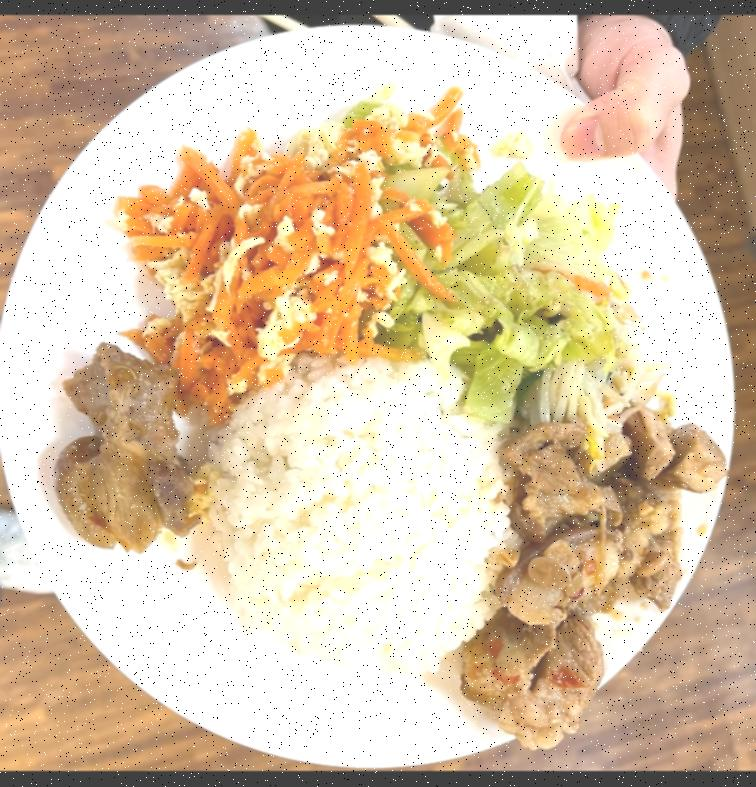big fried chicken leg: (0, 16, 756, 766)
big herbal chicken leg: (206, 363, 523, 672)
braised fish fillet: (115, 138, 403, 402), (399, 160, 651, 378), (527, 356, 663, 434)
braised pork: (456, 408, 738, 754), (44, 342, 222, 566)
